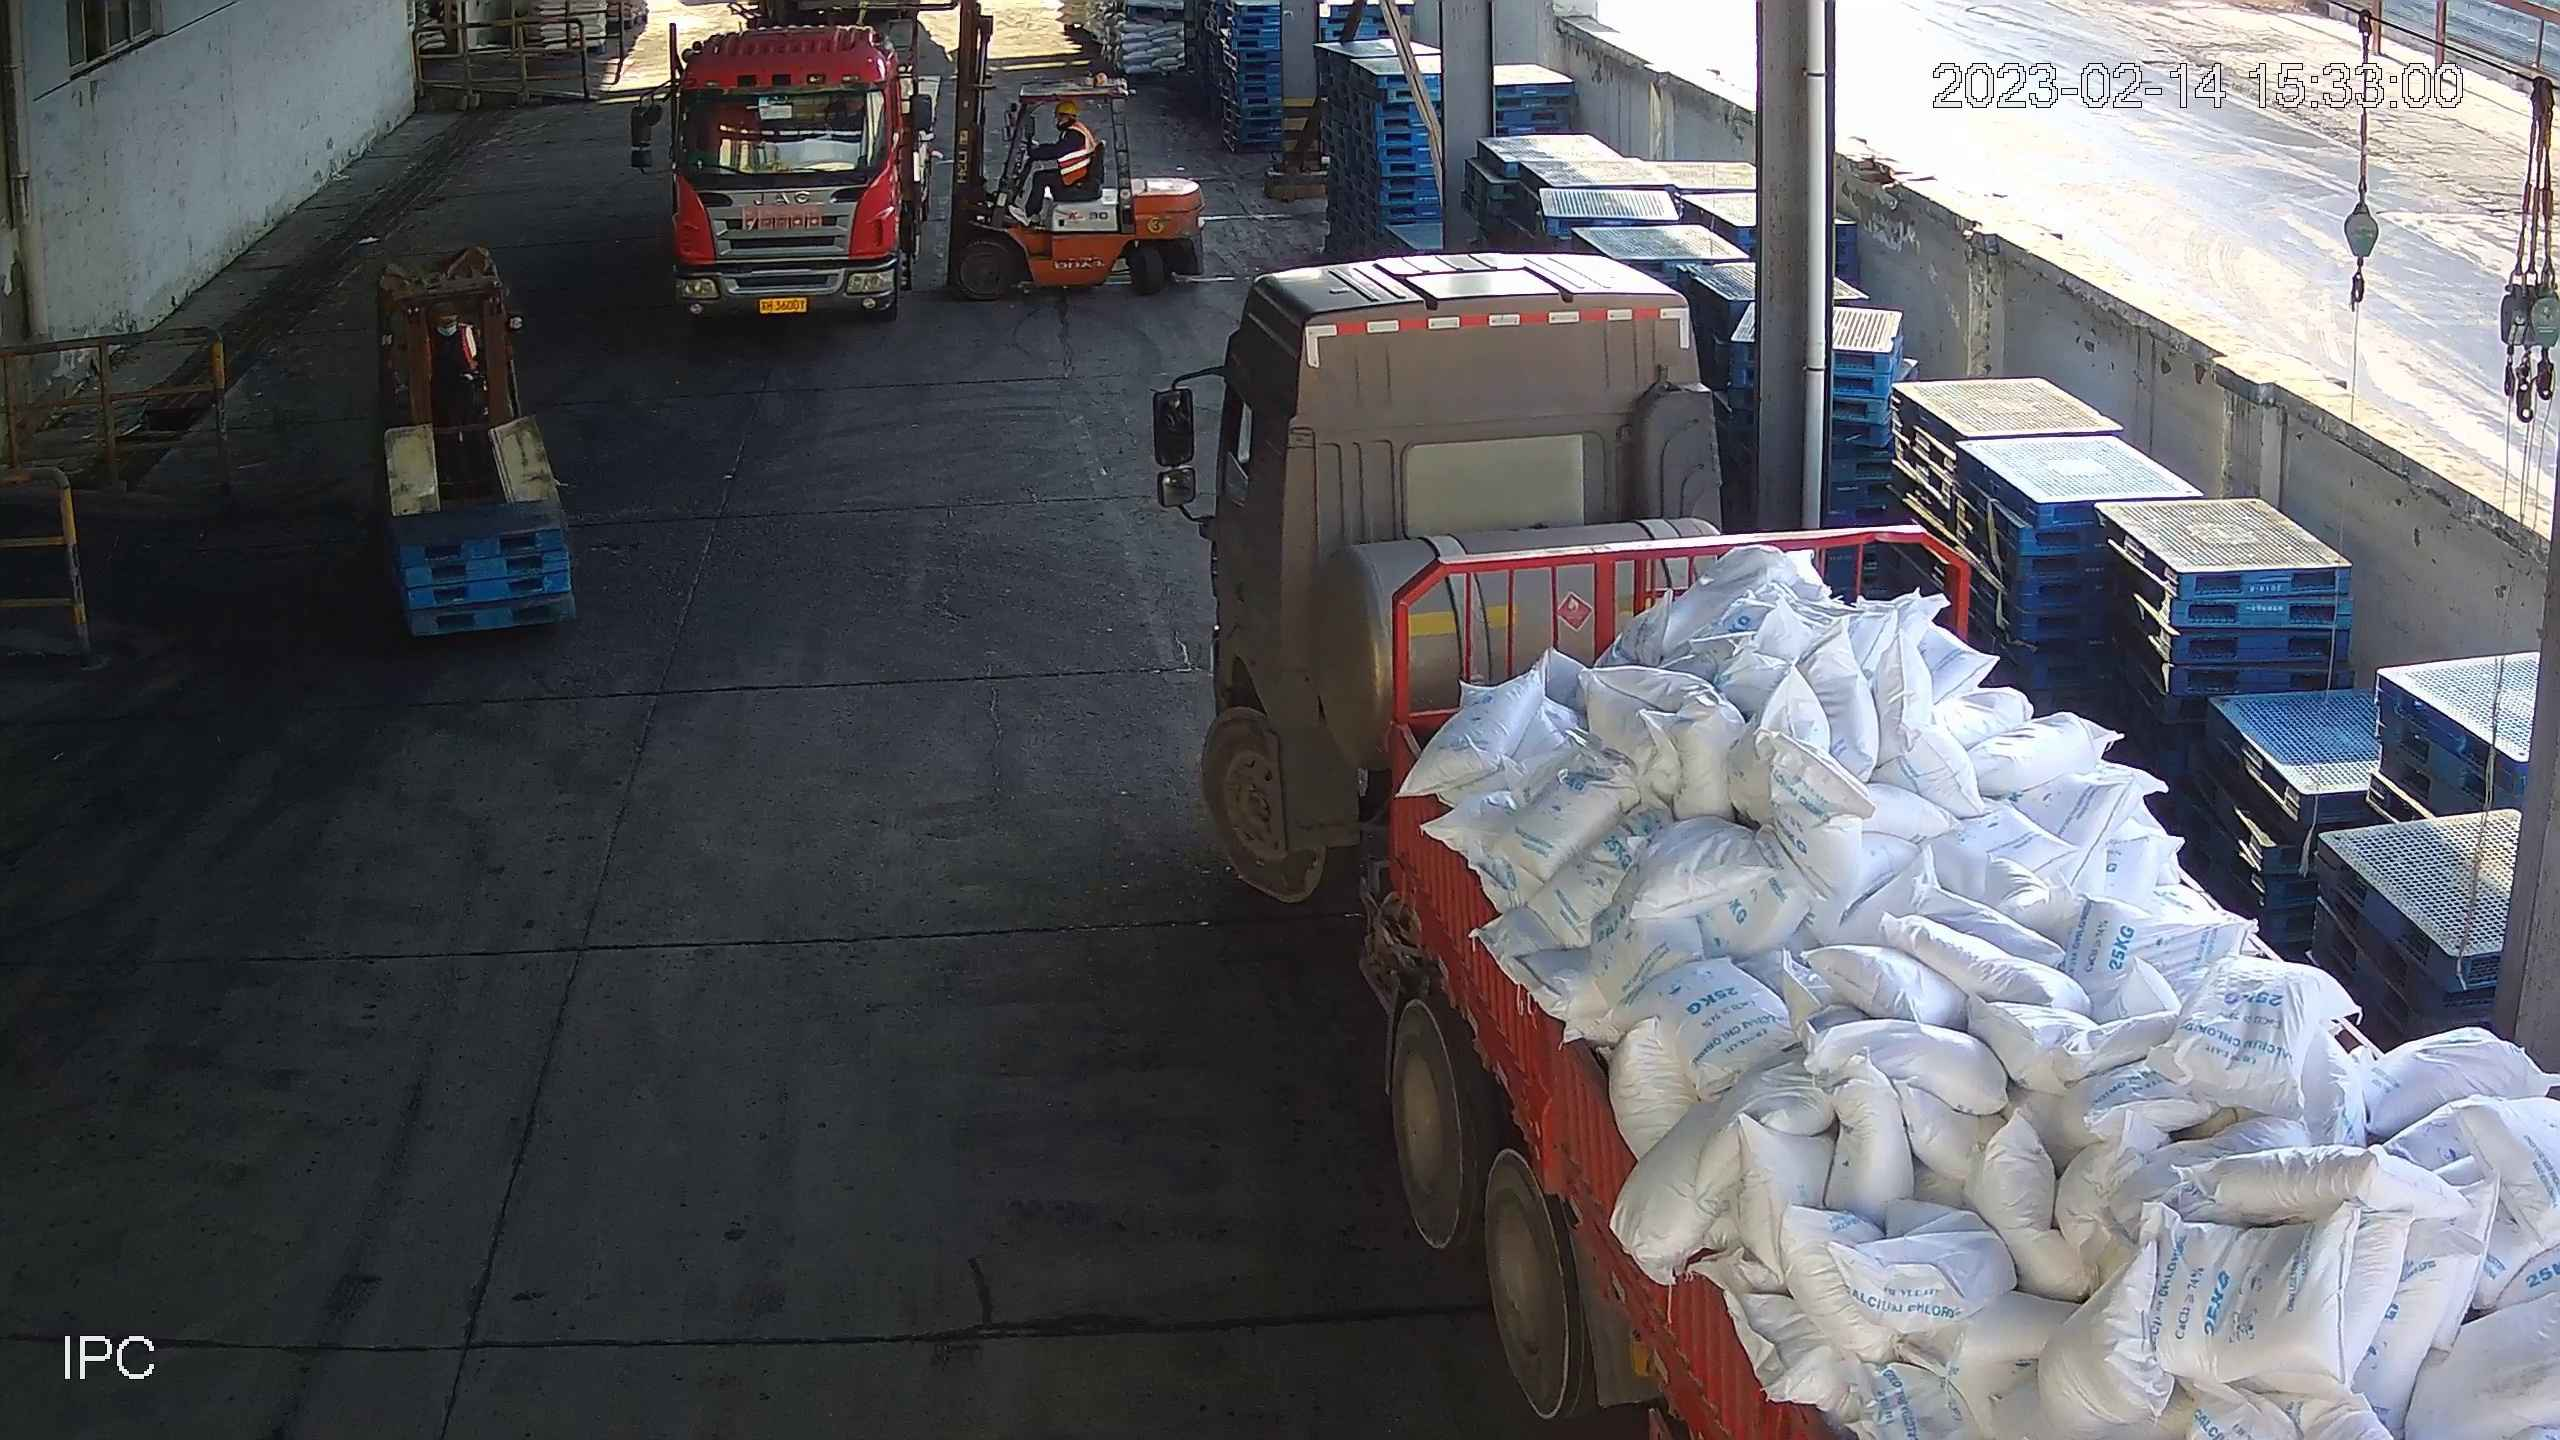head: (1029, 94, 1101, 153)
helmet: (1049, 101, 1090, 121)
people: (1020, 94, 1105, 212)
truck: (1149, 260, 2560, 1440), (635, 1, 936, 336)
